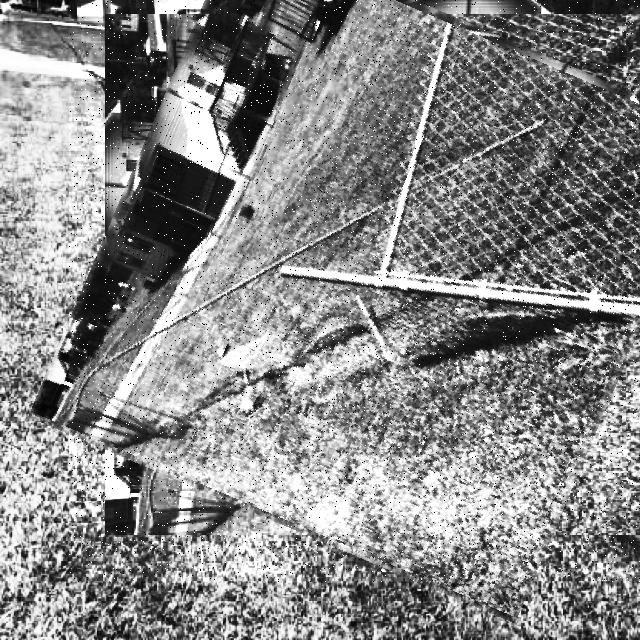anomaly-fence: (69, 0, 640, 582)
